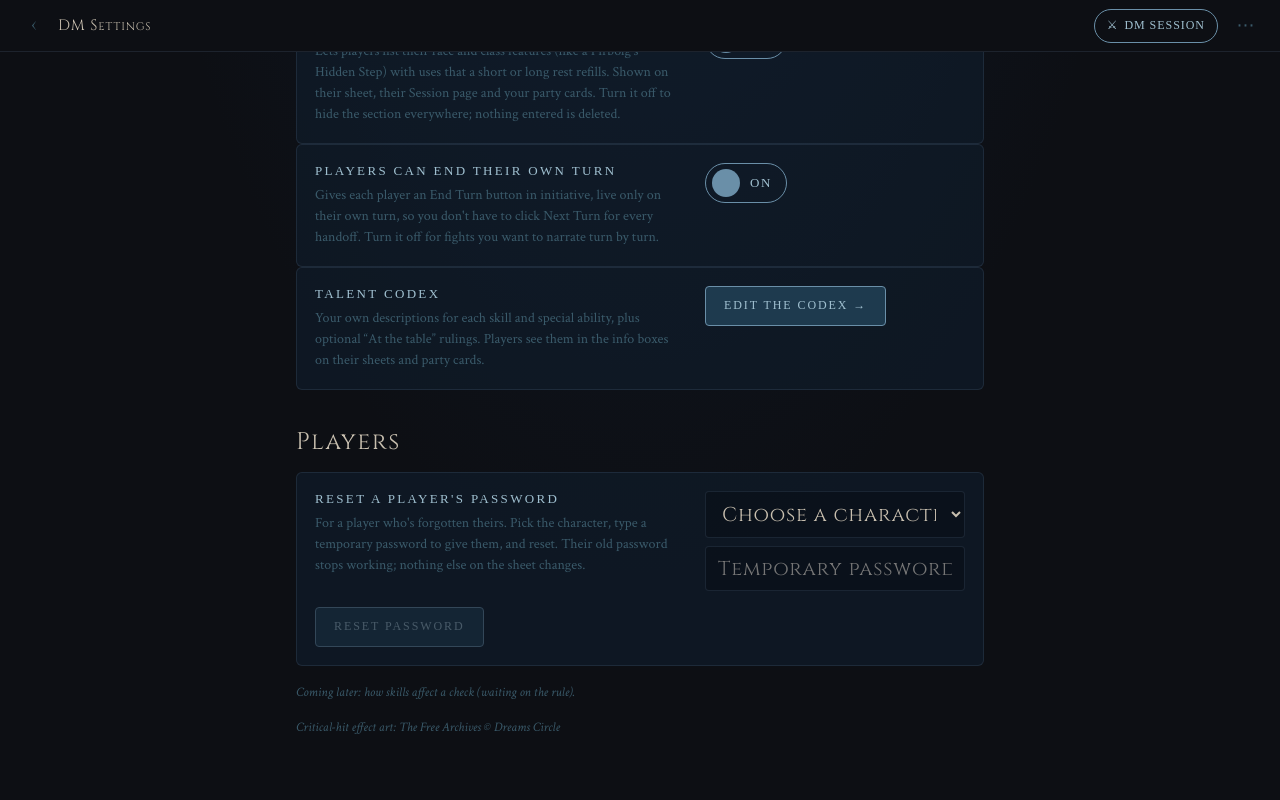
Test case: DmSettingsPage › resets a player's password to a temporary one after a confirm step
(page scrolled)
Expected: the button "Reset password" is disabled, [315,607,484,647]
Select "Quietclaw" in the dropdown named "Character" at (835, 514), box [705,491,965,538]
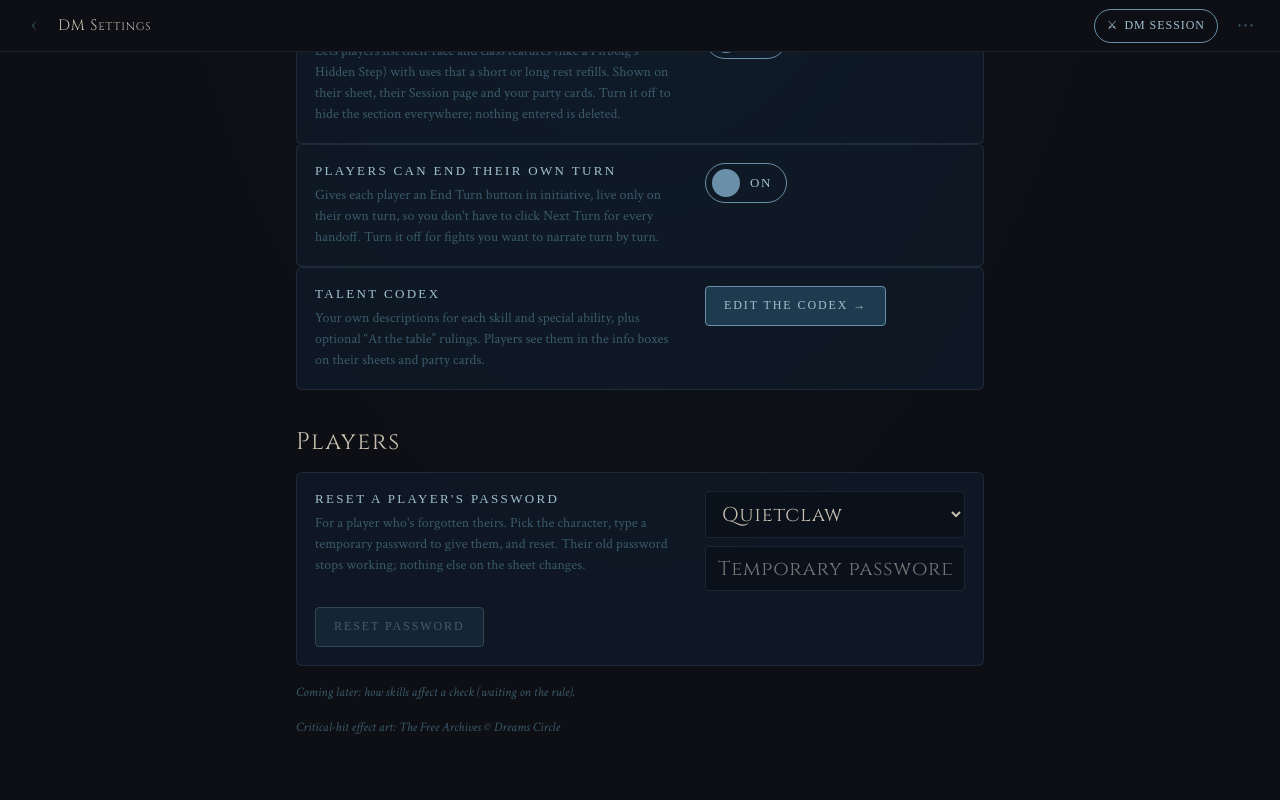
Type "crackle123" into the field labelled "Temporary password".
click(835, 568); type("crackle123")  # box [705,546,965,591]
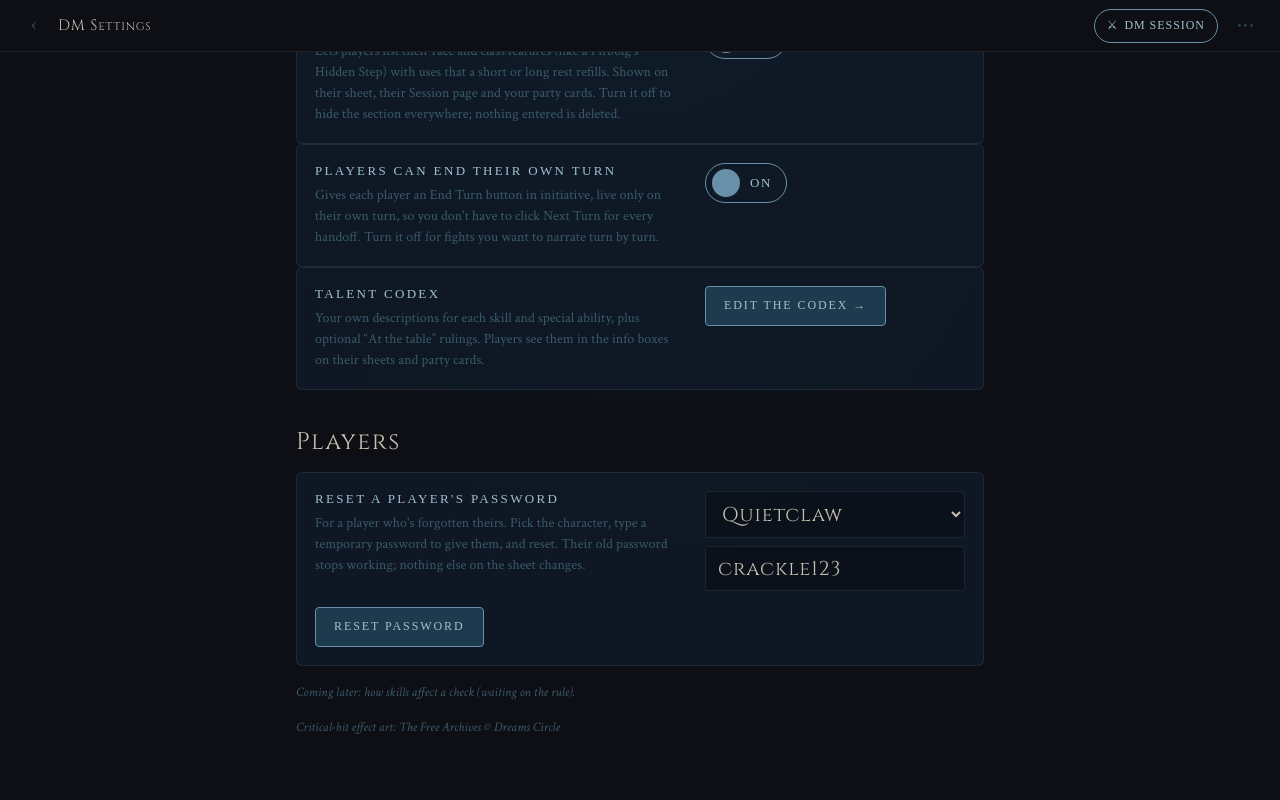
Click the button "Reset password".
click(399, 627)  # box [315,607,484,647]
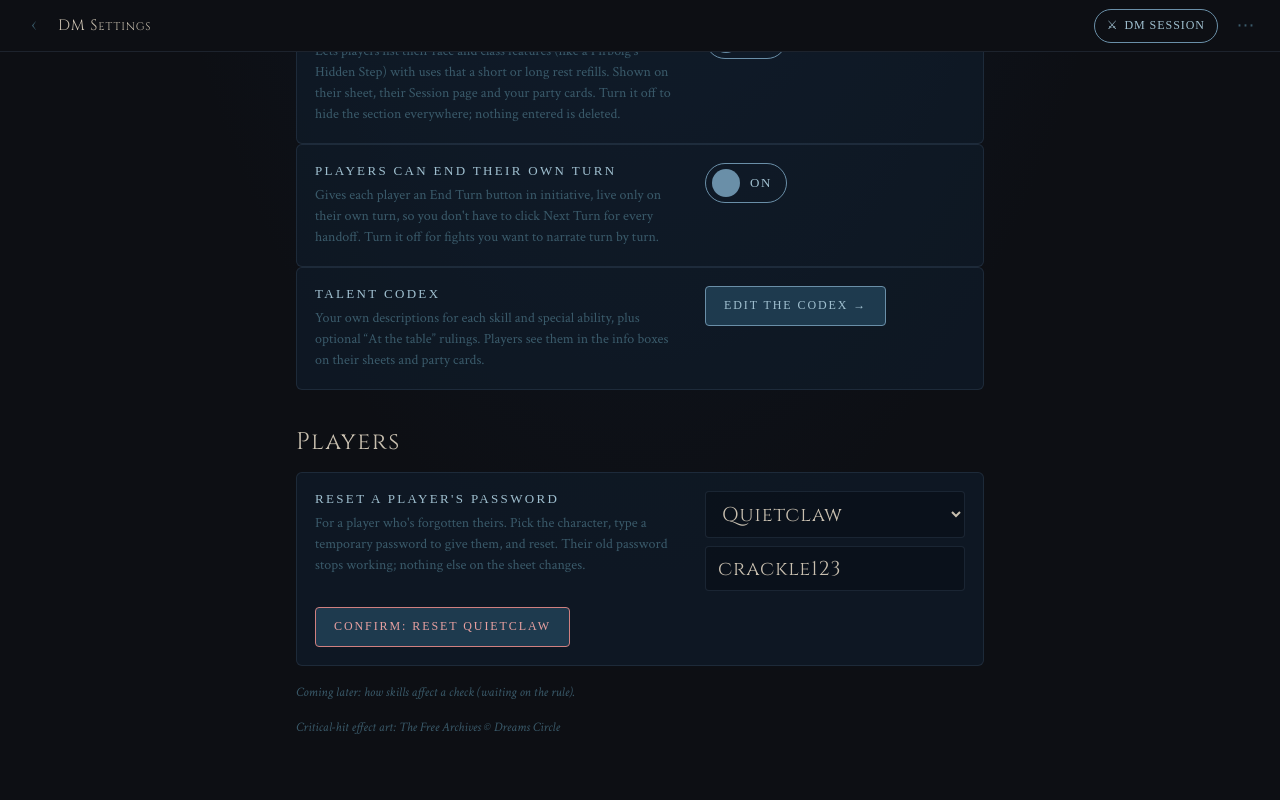
Click the button "Confirm: reset Quietclaw".
click(442, 627)  # box [315,607,570,647]
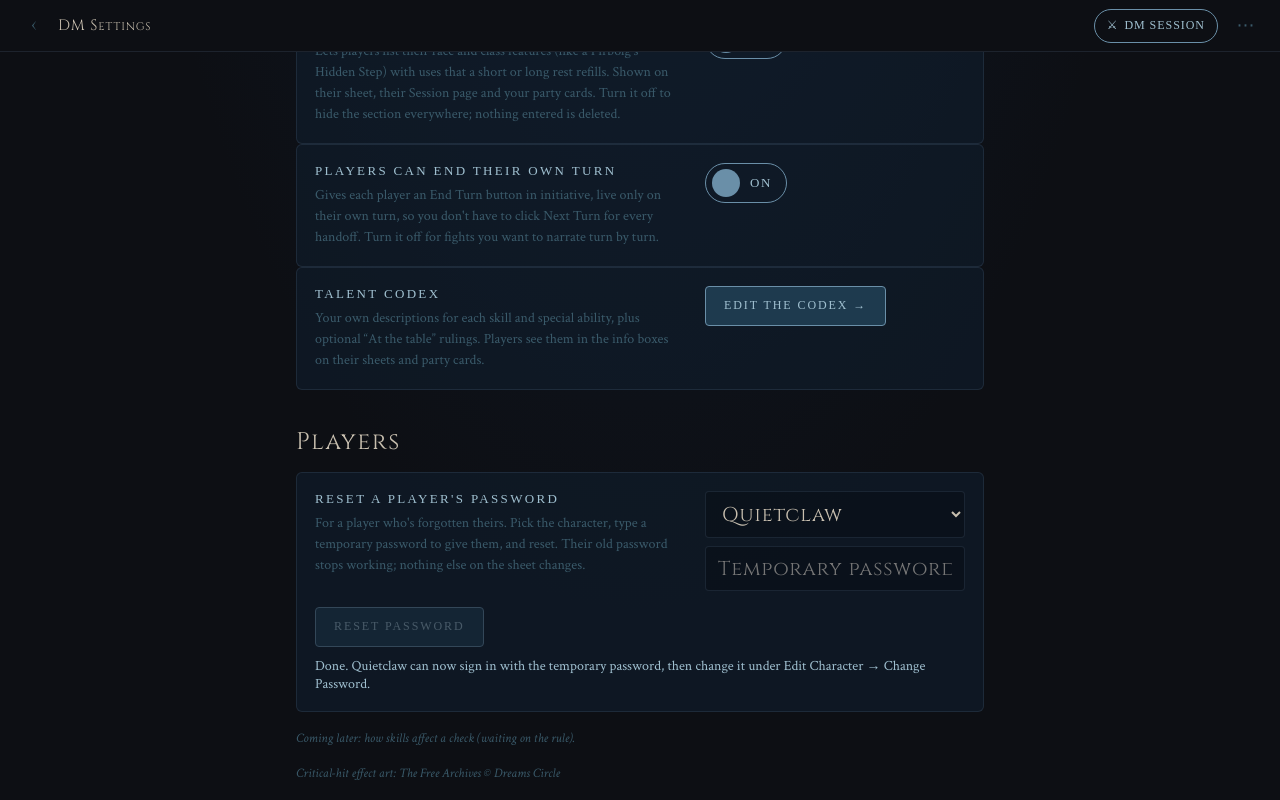
Expected: the text "Quietclaw can now sign in" is shown, [315,657,926,693]
Expected: the field labelled "Temporary password" is empty, [705,546,965,591]
